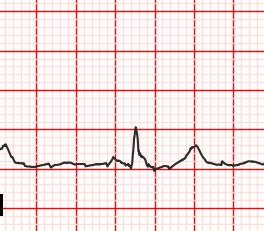LVH: (172, 142, 219, 168)
